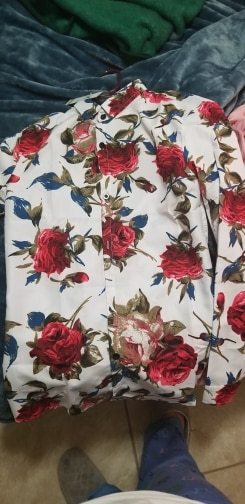shirts: (1, 86, 245, 402)
